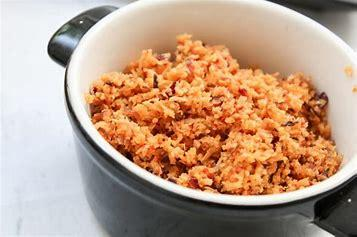Pol Sambol: (86, 26, 336, 204)
